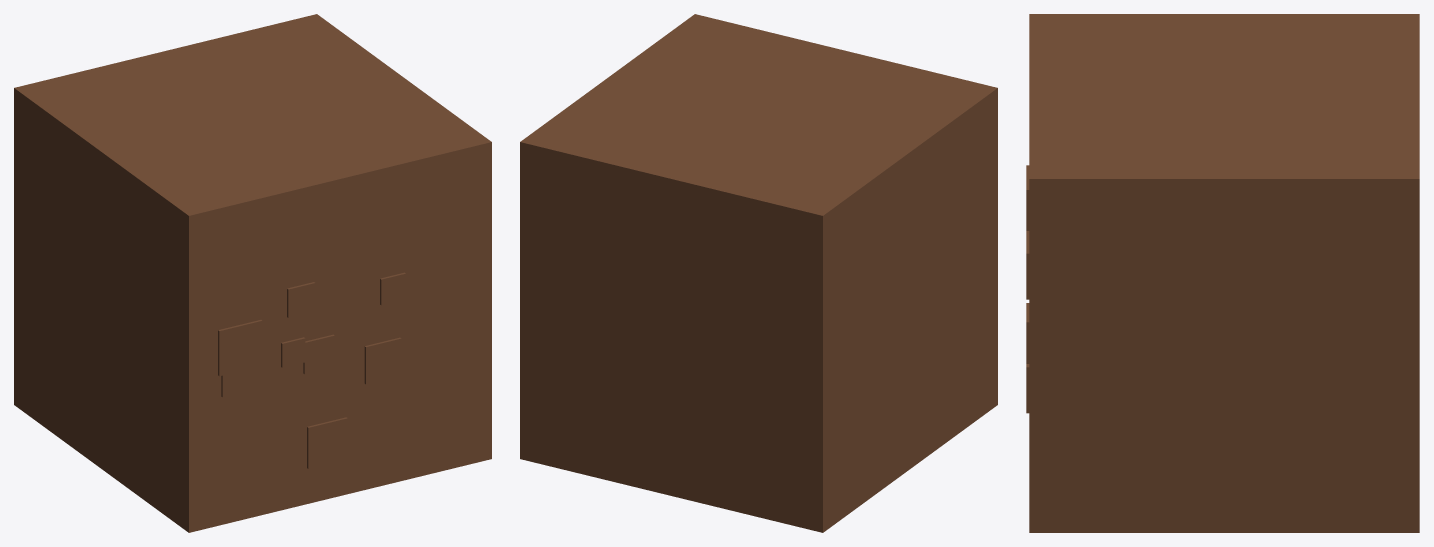
File: dirt_block.glb
3 renders of one model, left to right at view 1: azimuth 30°, elevation 25°; view 2: azimuth 150°, elevation 25°; view 3: azimuth 270°, elevation 25°, orthographic. The views are drawn at different scales.
Visible parts, largest first — view 1: dirt_block; view 2: dirt_block; view 3: dirt_block.
Boxes of the visible parts, x1,y1,x2,y2 form: dirt_block: [14, 14, 491, 532]; dirt_block: [520, 14, 997, 532]; dirt_block: [1026, 14, 1419, 532].
Size of the model in its own units: 1 by 1 by 1.01.
